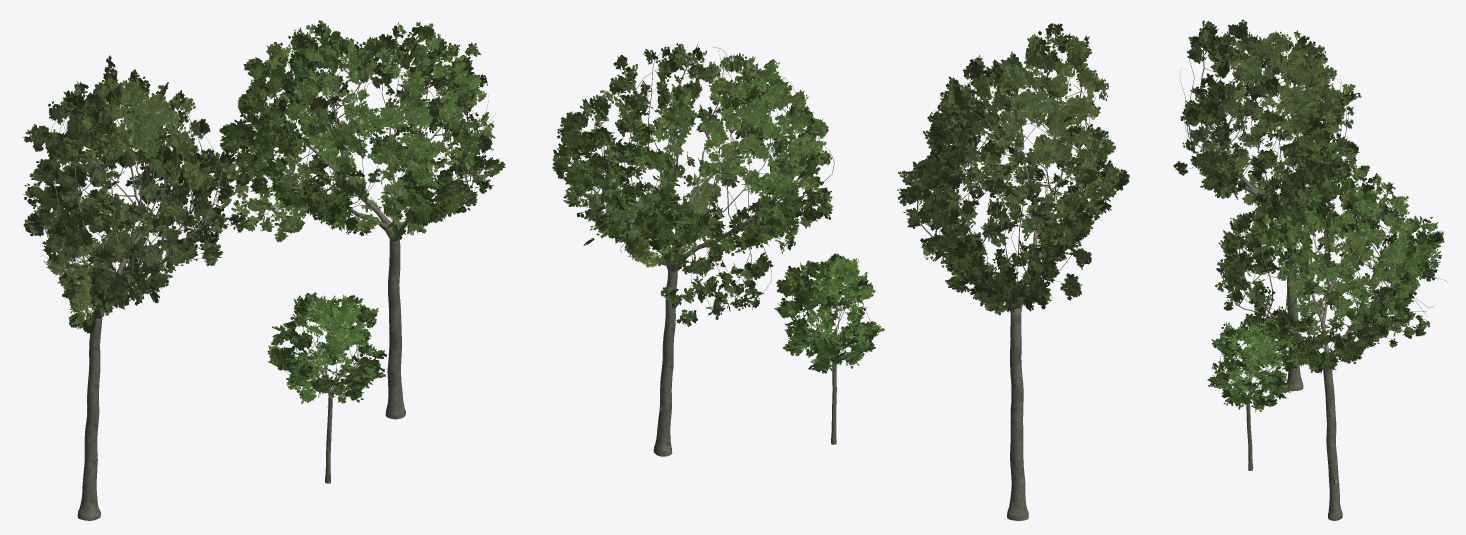
File: pilote_platanes20.glb
The picture shows the model from 3 angles, left to right: view 1: azimuth 30°, elevation 25°; view 2: azimuth 150°, elevation 25°; view 3: azimuth 270°, elevation 25°; orthographic projection. The views are drawn at different scales.
Parts seen in each view (by area): view 1: P20 Platane 829 texture, P20 Platane 828 texture, P20 Platane 12319 texture; view 2: P20 Platane 829 texture, P20 Platane 828 texture, P20 Platane 12319 texture; view 3: P20 Platane 829 texture, P20 Platane 828 texture, P20 Platane 12319 texture.
Boxes of the visible parts, x1,y1,x2,y2 form: P20 Platane 829 texture: [213, 20, 505, 419]; P20 Platane 828 texture: [22, 55, 249, 520]; P20 Platane 12319 texture: [266, 292, 386, 483]; P20 Platane 829 texture: [552, 43, 834, 456]; P20 Platane 828 texture: [897, 23, 1129, 520]; P20 Platane 12319 texture: [774, 253, 884, 444]; P20 Platane 829 texture: [1215, 150, 1446, 520]; P20 Platane 828 texture: [1173, 19, 1361, 391]; P20 Platane 12319 texture: [1207, 313, 1297, 470].
Bounding box in the file's own units: 28.24 × 24.16 × 16.79.
Materials: 6 (6 with a texture image).
